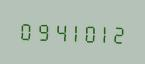four: (47, 19, 61, 43)
nine: (32, 18, 46, 43)
one: (62, 19, 76, 44), (92, 20, 106, 45)
two: (107, 21, 121, 45)
zero: (17, 18, 31, 42), (77, 20, 91, 44)
